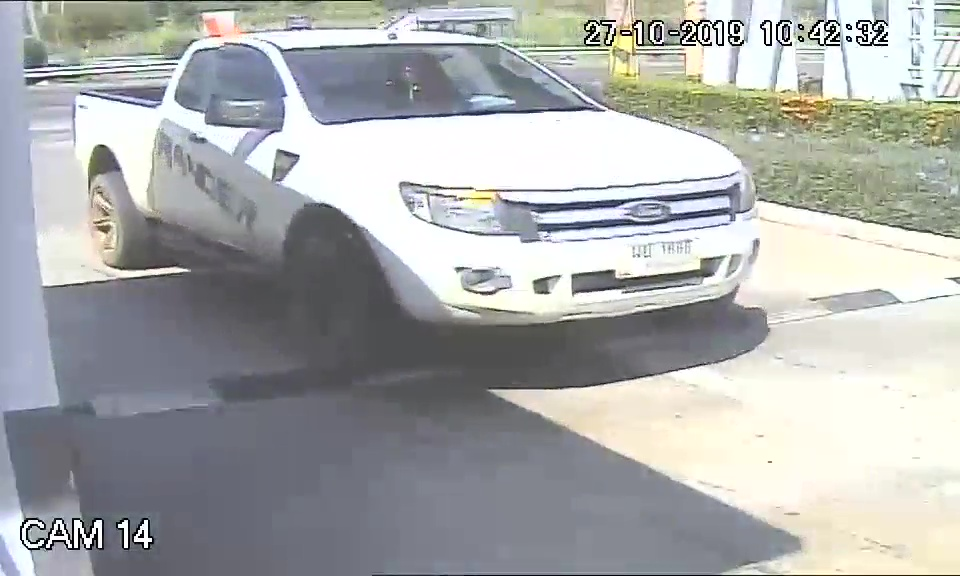pickup: (66, 28, 766, 374)
